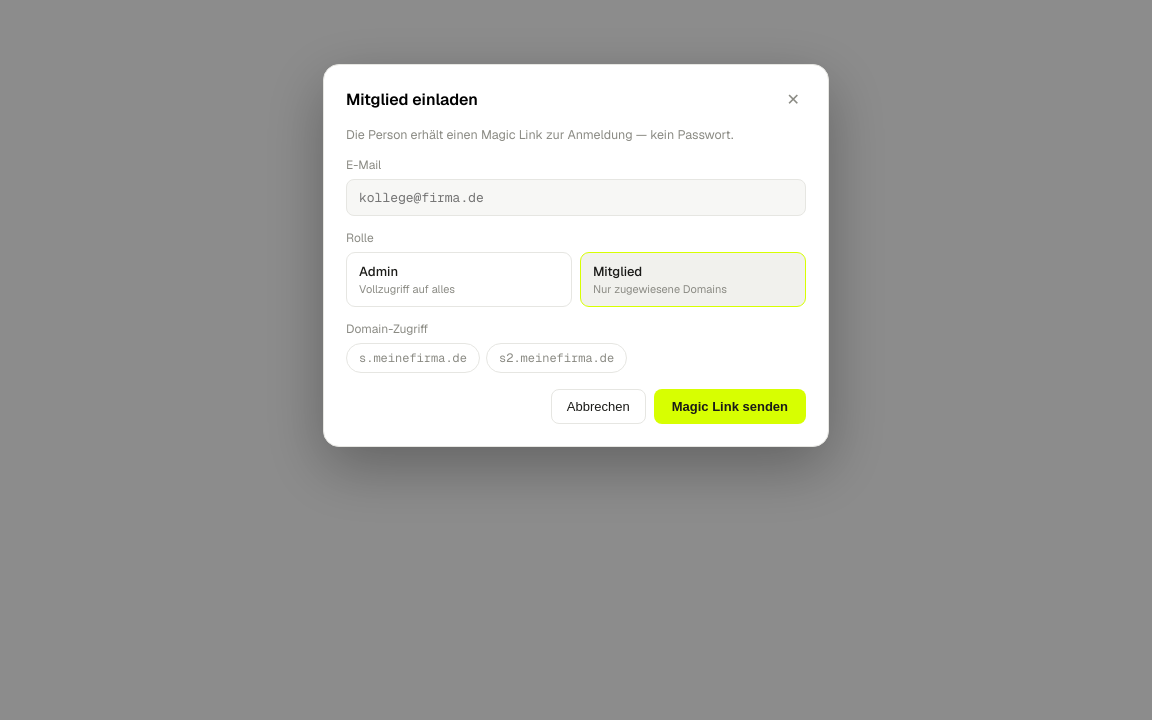
Scenario: InviteMemberModal › hides the domain block when the Admin role card is selected, and shows it again for Mitglied
Click the radio button with class "role-card" showing "Admin Vollzugriff auf alles" at [459, 280], box [346, 252, 572, 307]
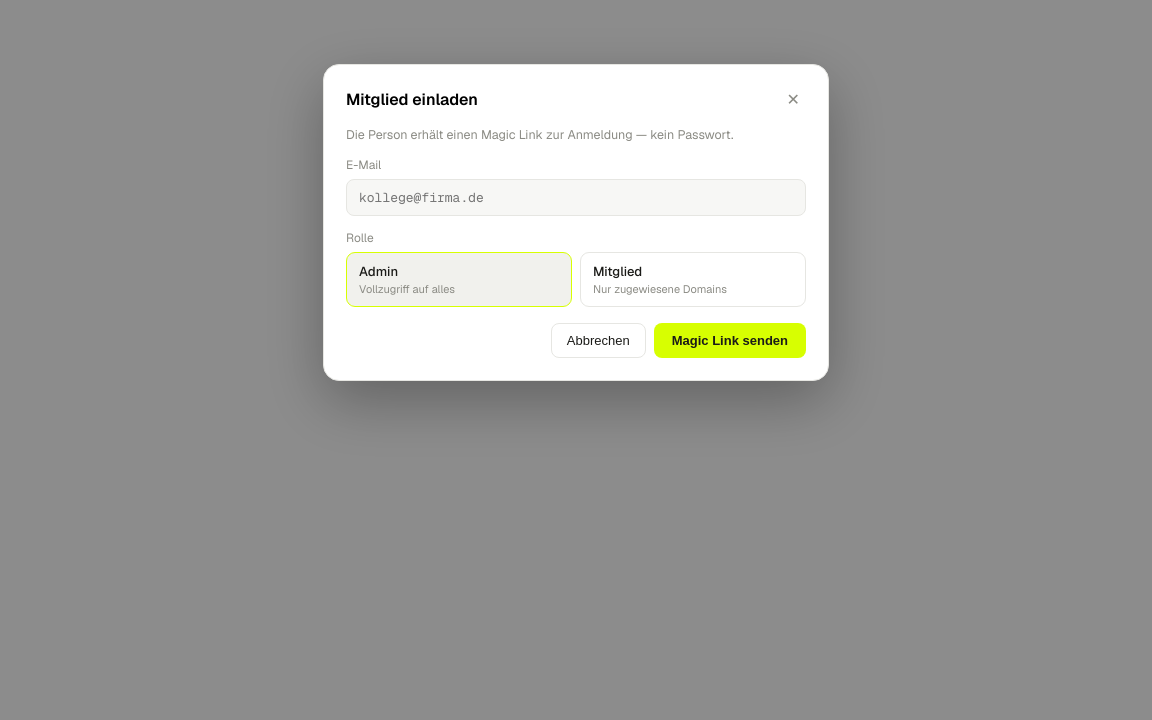
Click the radio button with class "role-card" that starts with "Mitglied" at [693, 280], box [580, 252, 806, 307]
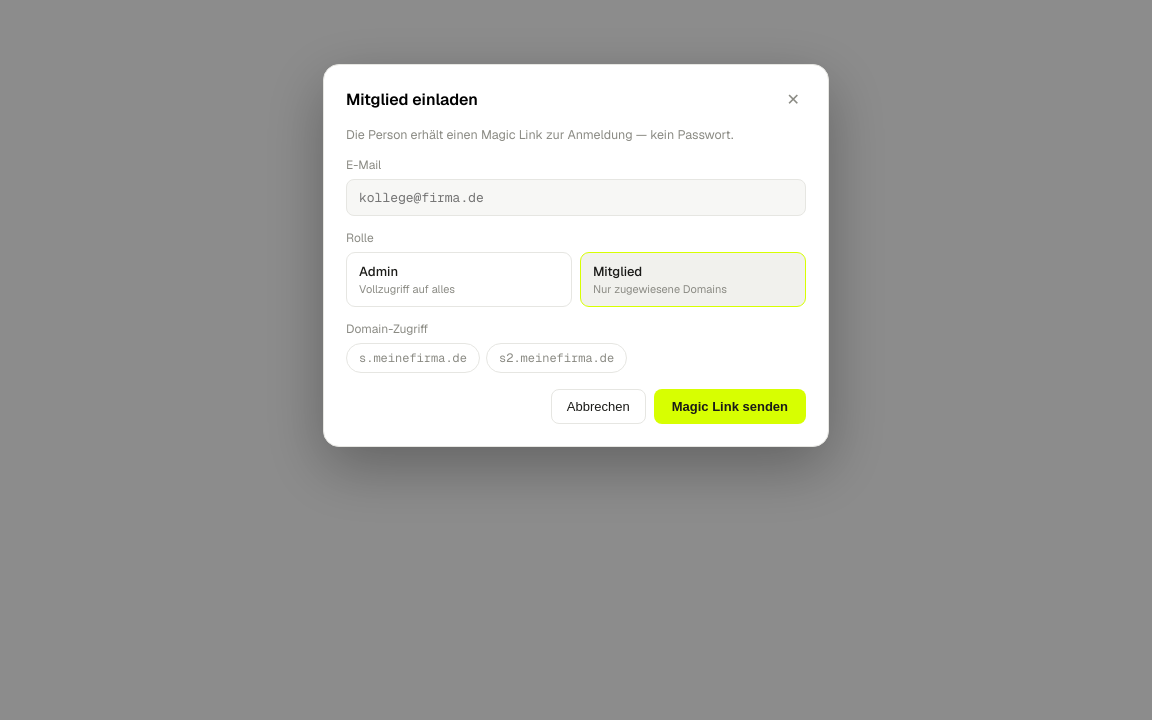
Expected: the element with class "domain-block" is shown, [346, 321, 627, 373]
